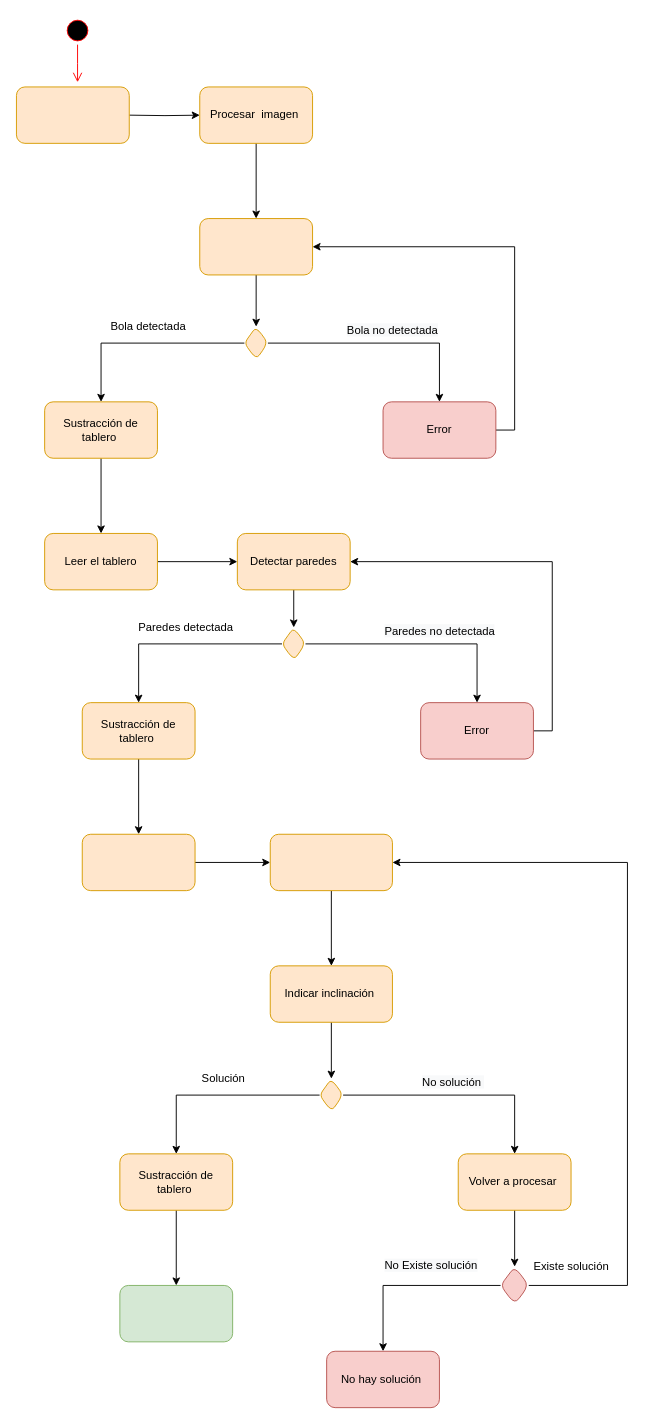
This 651x1424 diagram has some shape labels left out. Each missing label, with the box of its shape:
Detección de Objetos: (81, 833, 195, 891)
Fin: (119, 1285, 233, 1342)
Generar camino: (269, 833, 392, 891)
Localizar bola: (199, 218, 313, 275)
Obtener imagen: (16, 86, 129, 143)
